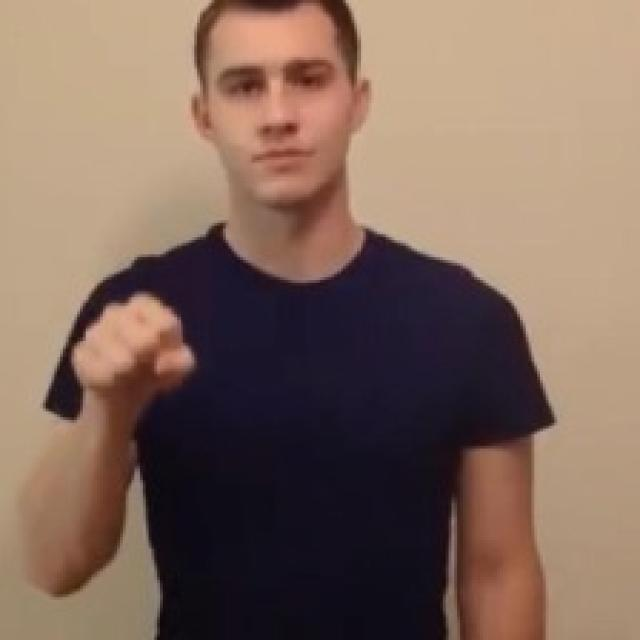yes: (64, 286, 200, 412)
